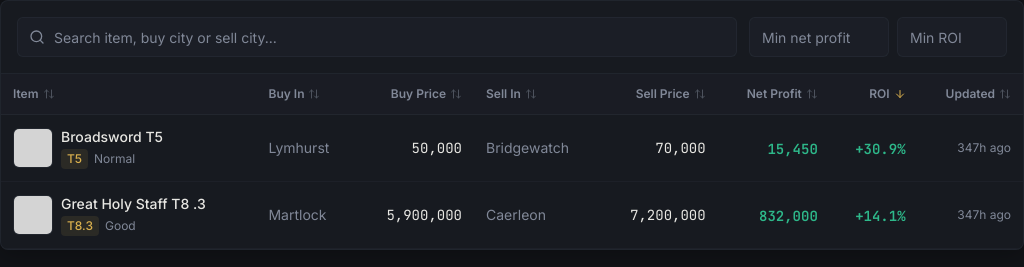
Test case: ArbitrageTable refinements › deve filtrar oportunidades por roi minimo
Type "20" into the number field with placeholder "Min ROI".
click(952, 37); type("20")  # box [897,17,1007,57]
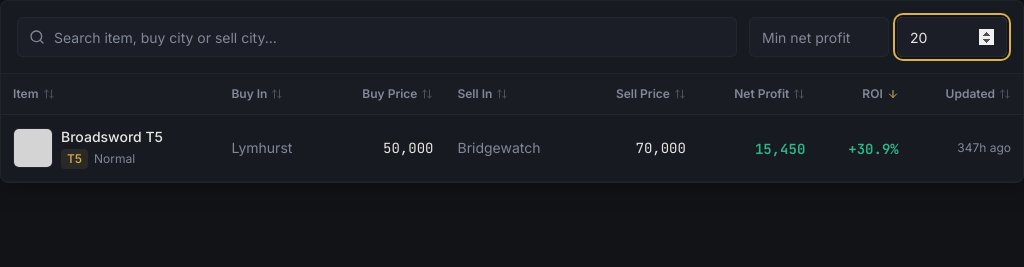
Expected: the text "Broadsword T5" is shown, [61,127,163,147]
Expected: the text "Great Holy Staff T8 .3" is gone
